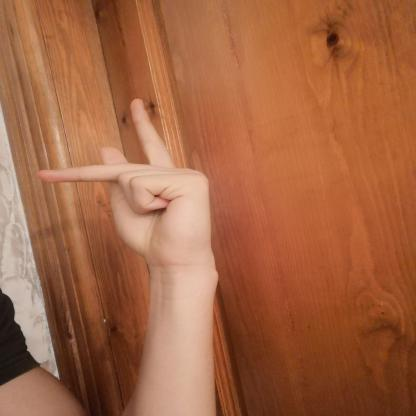DHAA: (22, 88, 227, 269)
